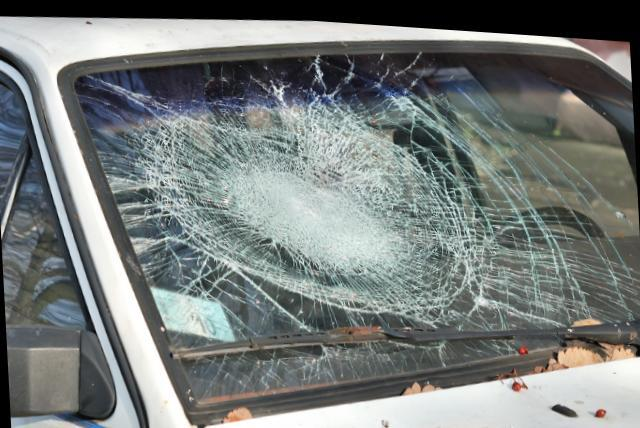glass shatter: (74, 40, 640, 399)
